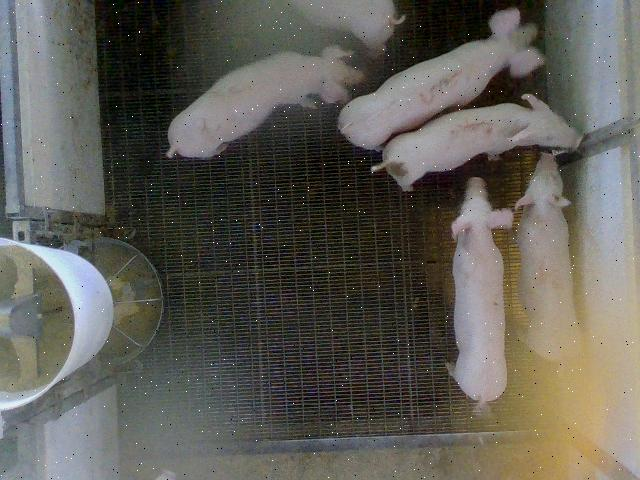pig-3: (339, 9, 544, 149)
pig-4: (515, 152, 581, 361)
pig-5: (371, 94, 582, 191)
